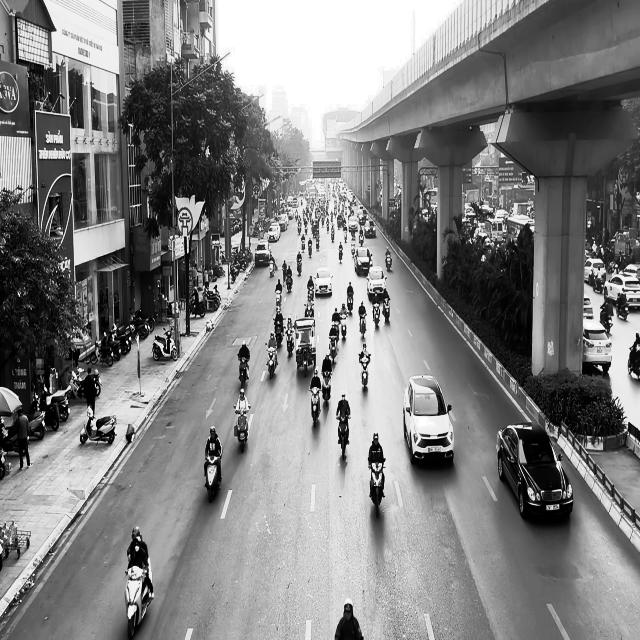car: (496, 421, 573, 519), (403, 374, 454, 465), (582, 318, 612, 374), (366, 266, 387, 300), (314, 266, 334, 296)
motorbike: (124, 556, 154, 639), (80, 405, 116, 444), (368, 458, 386, 516), (204, 450, 222, 502), (152, 328, 178, 361), (233, 402, 250, 452), (336, 413, 350, 460), (358, 352, 371, 390), (309, 386, 321, 427), (265, 343, 277, 379), (321, 370, 332, 404), (238, 355, 249, 388), (328, 334, 338, 363), (285, 327, 294, 356), (372, 301, 380, 327), (359, 313, 366, 339), (385, 253, 392, 271)
